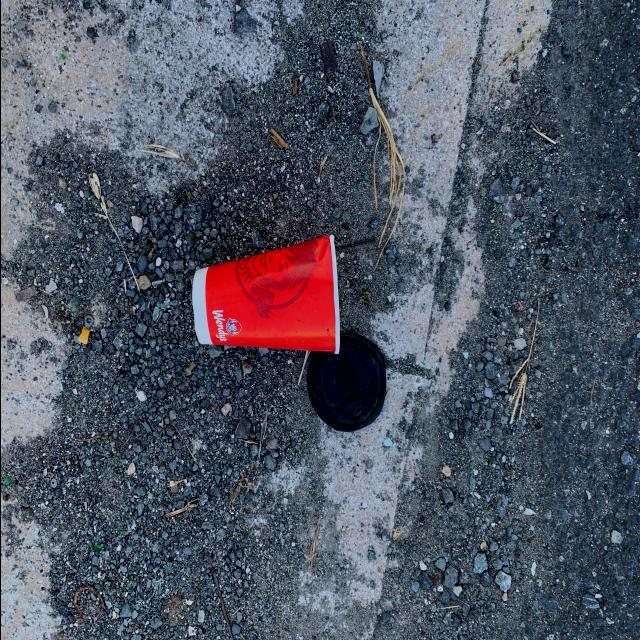Broken glass: (113, 337, 120, 348), (161, 301, 169, 309), (1, 478, 9, 486), (94, 545, 104, 550), (99, 328, 104, 338), (151, 466, 157, 473), (59, 53, 66, 59), (118, 530, 123, 538), (246, 530, 251, 538), (129, 604, 134, 612), (140, 457, 145, 464), (194, 543, 198, 550), (131, 562, 136, 566), (127, 583, 131, 587)
Paper cup: (191, 235, 339, 354)
Plastic lid: (306, 333, 385, 432)
Unlabeled litter: (77, 314, 92, 344)
